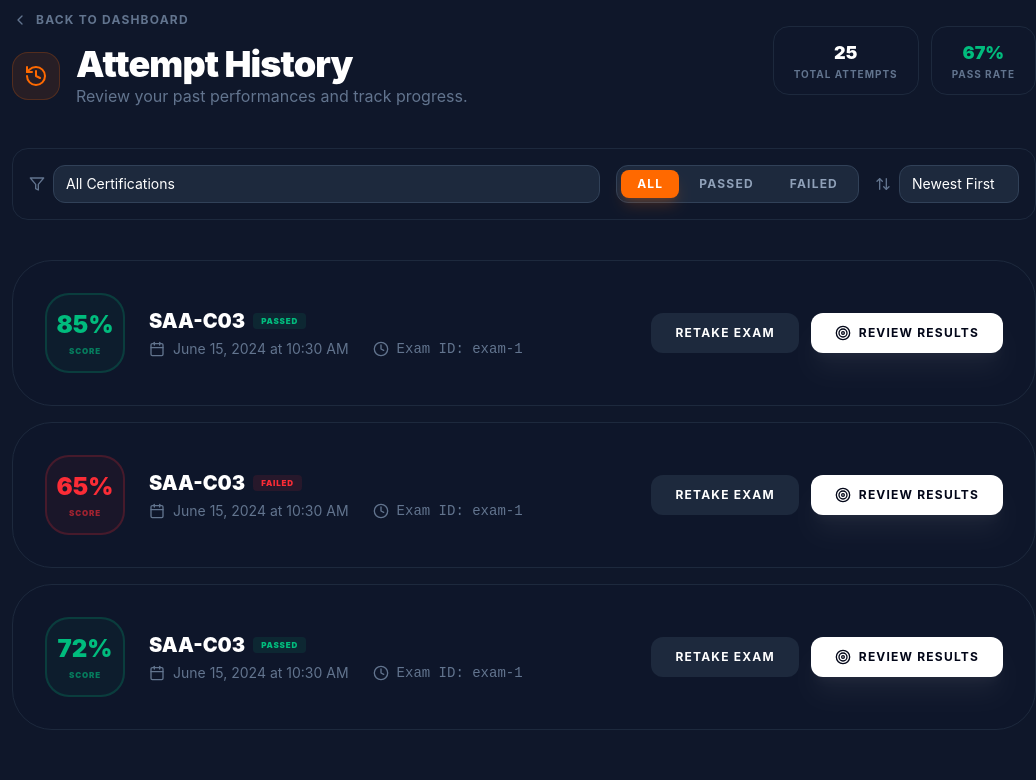
Test: History Page › Total/filtered count display › displays filtered count when filters are active
Note: Apply a status filter to activate "hasActiveFilters"
Click the button with aria-label "filter by passed" at (726, 184), box [683,170,770,198]
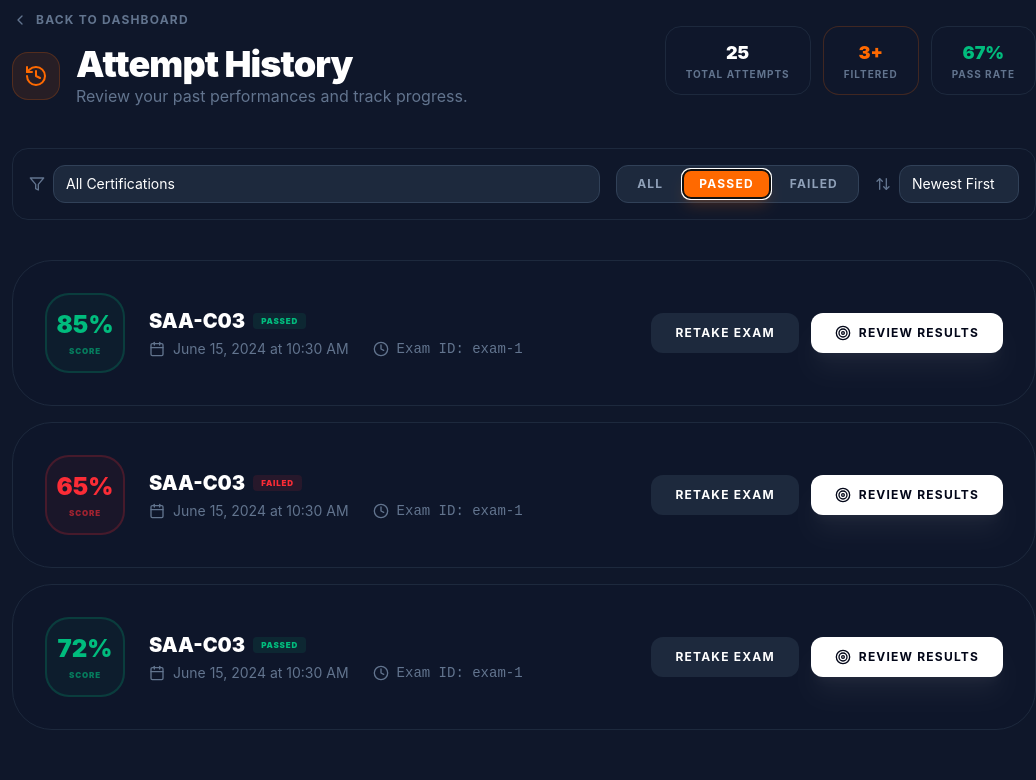
expect the text "Filtered" is shown: met, box [844,66,898,82]
